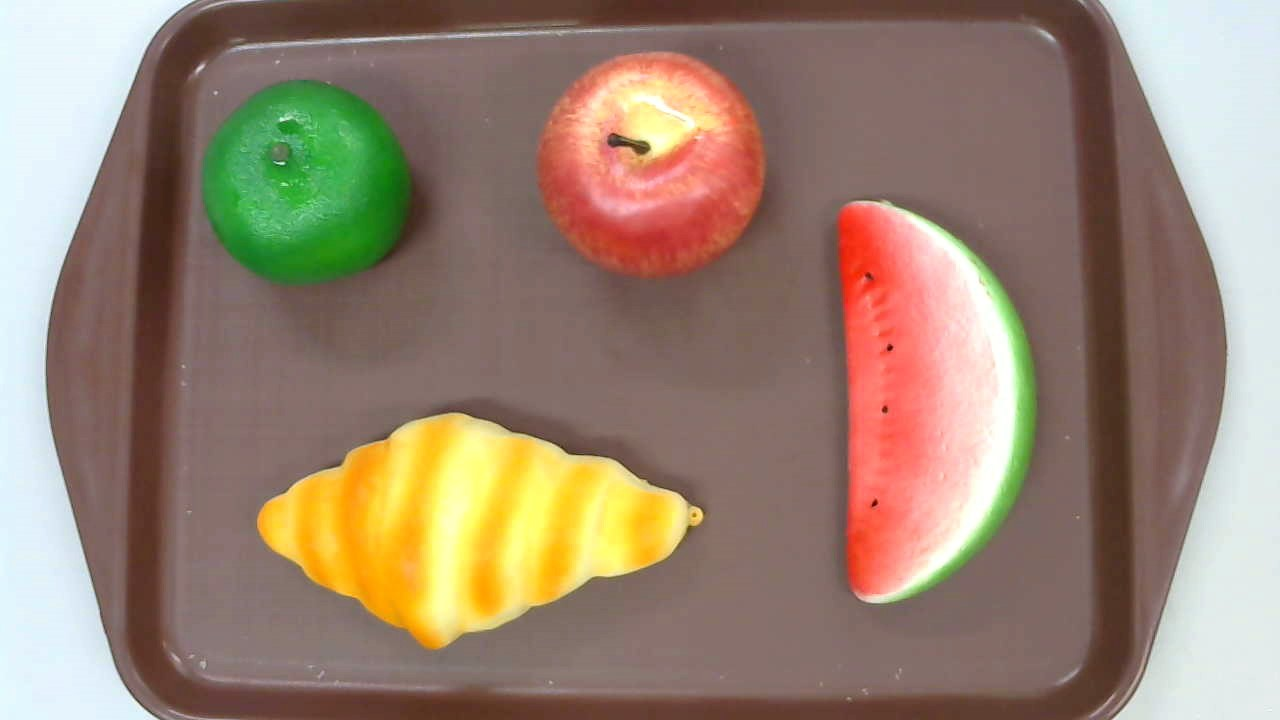croissant: (257, 411, 708, 647)
green orange: (201, 80, 411, 286)
red apple: (537, 51, 767, 281)
watermelon: (838, 197, 1036, 604)
